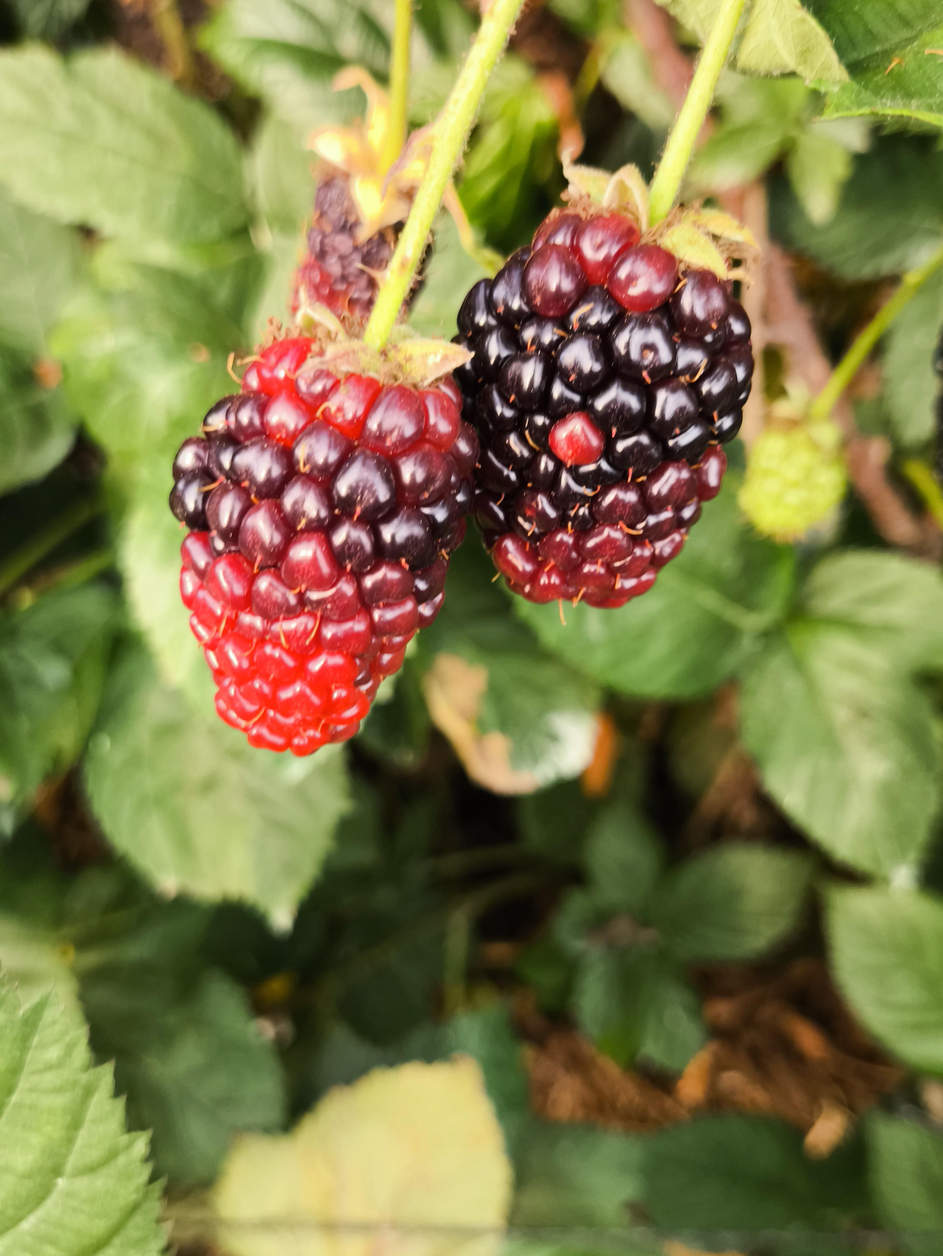marron: (185, 342, 463, 756), (470, 217, 743, 611)
